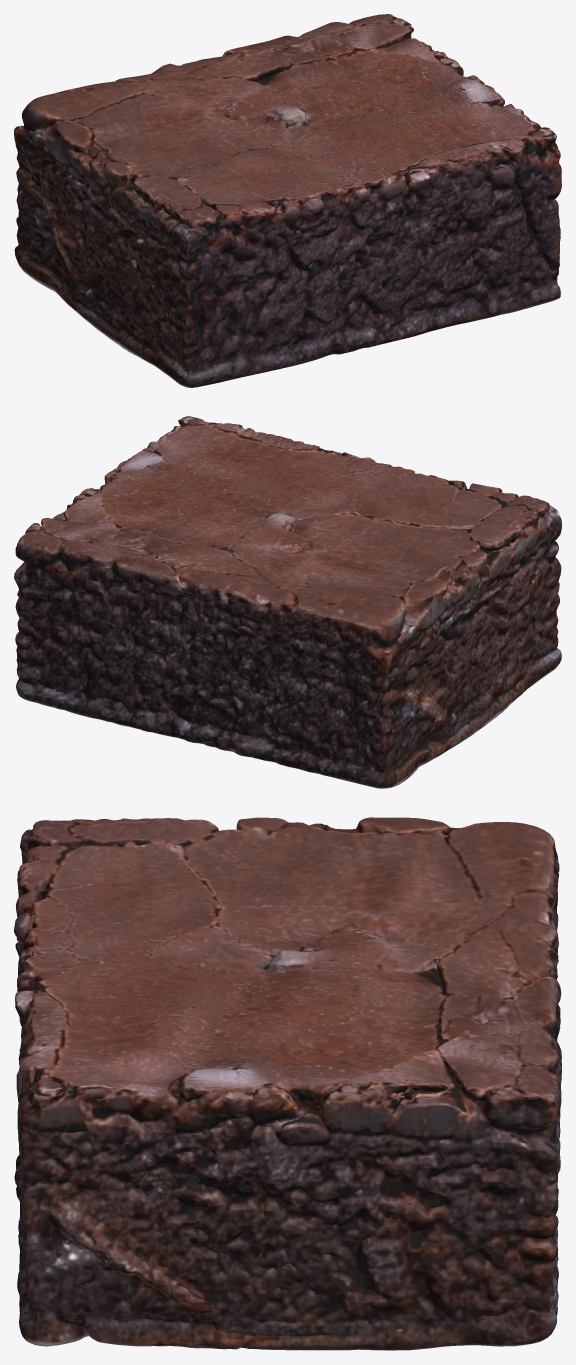
3 views of the same model, one above another, from view 1: azimuth 30°, elevation 25°; view 2: azimuth 150°, elevation 25°; view 3: azimuth 270°, elevation 25° (orthographic). The views are drawn at different scales.
Visible parts, largest first — view 1: brownie-physical-calibration-80x35x65mm; view 2: brownie-physical-calibration-80x35x65mm; view 3: brownie-physical-calibration-80x35x65mm.
Part boxes in pixels (x1=…): brownie-physical-calibration-80x35x65mm: x1=14, y1=14, x2=561, y2=387; brownie-physical-calibration-80x35x65mm: x1=14, y1=416, x2=561, y2=788; brownie-physical-calibration-80x35x65mm: x1=14, y1=817, x2=561, y2=1350.
Size of the model in its own units: 0.08 by 0.035 by 0.065.
Materials: 1 (1 with a texture image).
